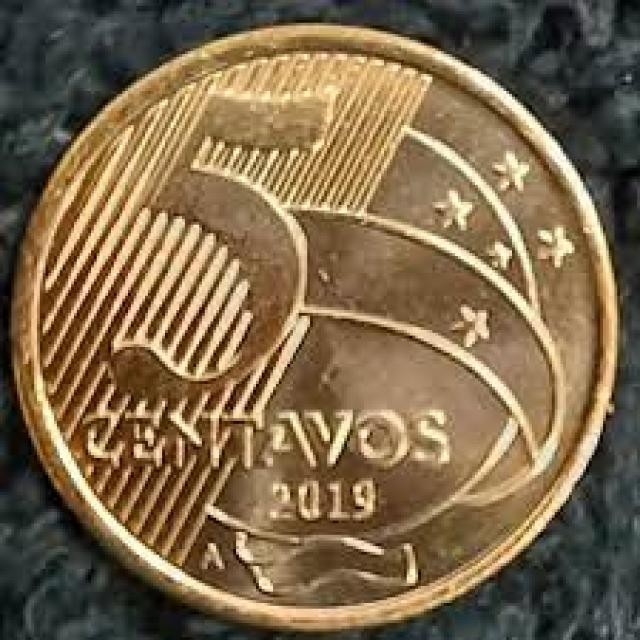5 cent: (25, 29, 612, 625)
